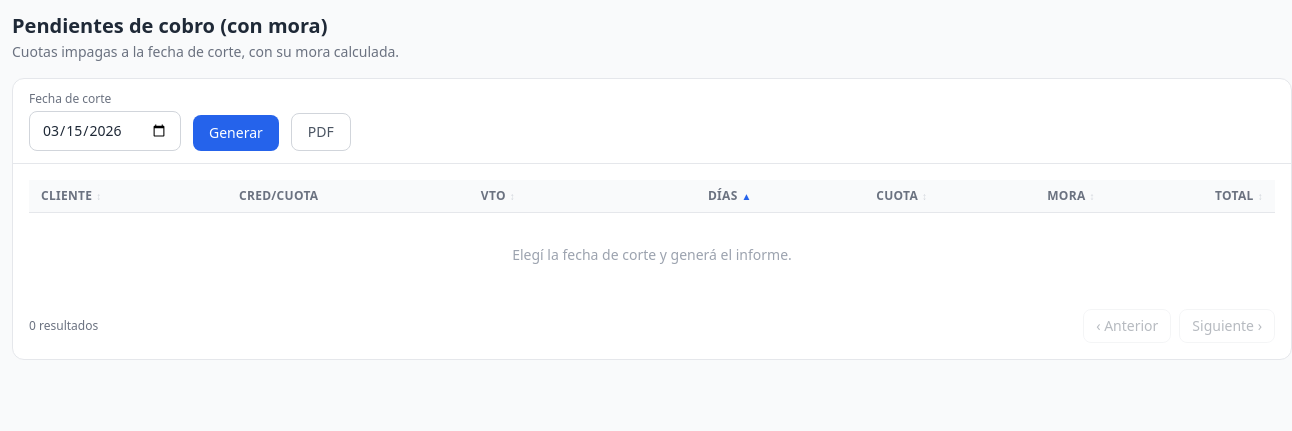
Scenario: Pendientes de cobro › si falla lo informa
This screenshot has width=1292, height=431.
Click the button "Generar": click(236, 133) [193,115,279,151]
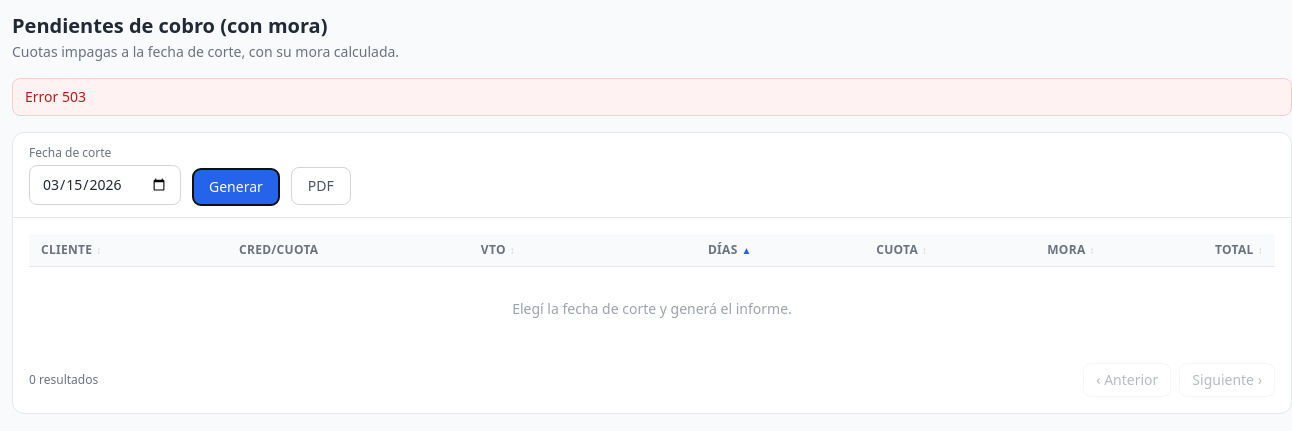
Expected: the text "Error 503" is shown, [12,78,1291,116]
